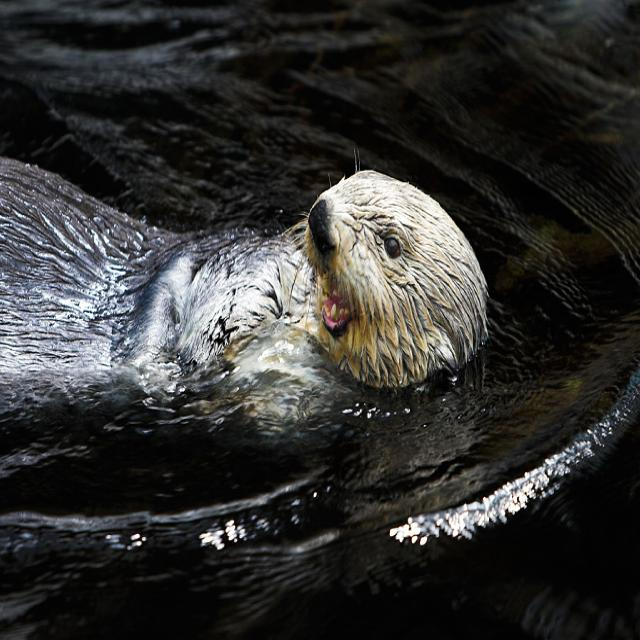otter: (1, 156, 491, 401)
